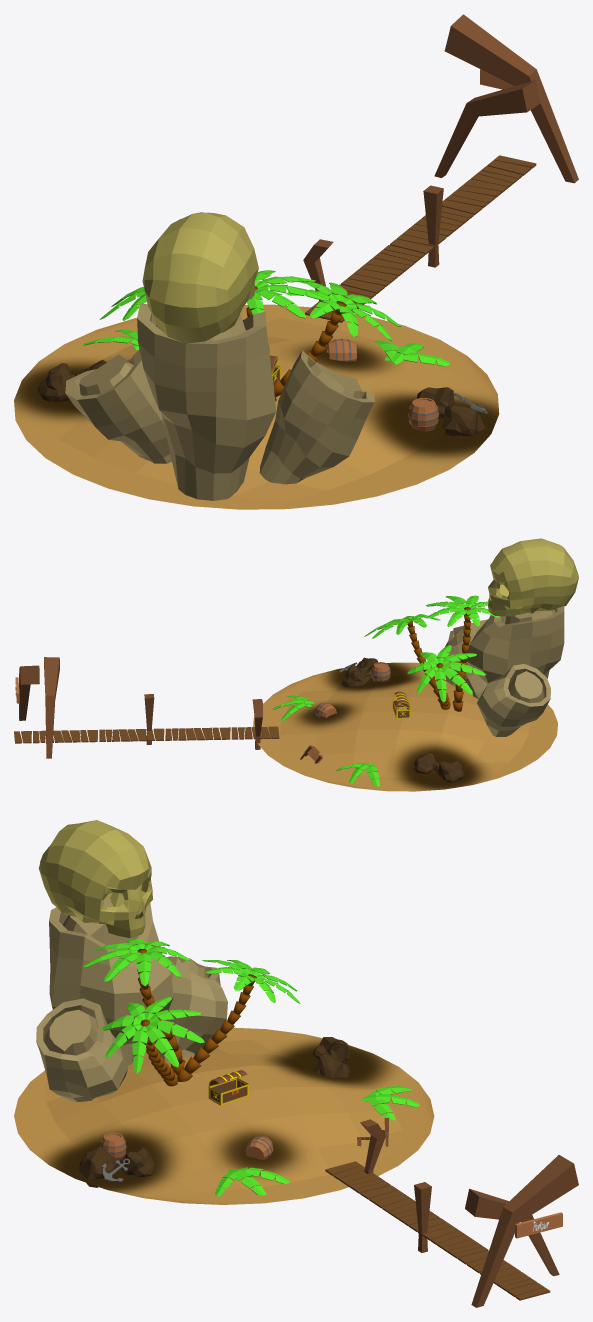
The model's file is parkour.glb.
The picture shows the model from 3 angles, top to bottom: view 1: azimuth 30°, elevation 25°; view 2: azimuth 150°, elevation 25°; view 3: azimuth 270°, elevation 25°; orthographic projection. The views are drawn at different scales.
Visible parts, largest first — view 1: Circle.001, RockaGrande.002, Calabera.001, RockaMediana.004, RockaMediana.005, Puente.001, Palo.006, Palo.007, Plane.010, Plane.009, Rock1.001, Palo.004 (+4 smaller); view 2: Circle.001, Calabera.001, RockaGrande.002, RockaMediana.005, Puente.001, Plane.011, Palo.007, Plane.009, RockaMediana.004, Rock2.001, Palo.006, Rock1.001 (+6 smaller); view 3: Circle.001, Calabera.001, RockaGrande.002, RockaMediana.004, Puente.001, Palo.006, RockaMediana.005, Plane.010, Plane.009, Rock1.001, Palo.007, Plane.011 (+8 smaller).
Part boxes in pixels (<box>): Circle.001: <box>14,304,499,509</box>; RockaGrande.002: <box>137,303,276,500</box>; Calabera.001: <box>142,212,258,343</box>; RockaMediana.004: <box>259,350,374,484</box>; RockaMediana.005: <box>65,349,171,463</box>; Puente.001: <box>305,155,536,322</box>; Palo.006: <box>444,14,578,183</box>; Palo.007: <box>434,80,540,177</box>; Plane.010: <box>285,280,392,340</box>; Plane.009: <box>247,270,328,318</box>; Rock1.001: <box>416,387,485,436</box>; Palo.004: <box>423,185,443,267</box>; Circle.001: <box>253,662,557,791</box>; Calabera.001: <box>488,538,578,616</box>; RockaGrande.002: <box>467,606,564,716</box>; RockaMediana.005: <box>477,664,550,736</box>; Puente.001: <box>14,726,279,743</box>; Plane.011: <box>407,645,486,702</box>; Palo.007: <box>44,657,59,758</box>; Plane.009: <box>426,595,499,626</box>; RockaMediana.004: <box>443,619,487,699</box>; Rock2.001: <box>413,753,463,782</box>; Palo.006: <box>19,665,39,720</box>; Rock1.001: <box>342,657,377,687</box>; Circle.001: <box>14,1027,434,1204</box>; Calabera.001: <box>38,820,152,938</box>; RockaGrande.002: <box>49,899,173,1065</box>; RockaMediana.004: <box>36,998,127,1101</box>; Puente.001: <box>325,1161,550,1300</box>; Palo.006: <box>471,1155,578,1307</box>; RockaMediana.005: <box>155,956,227,1061</box>; Plane.010: <box>102,997,204,1067</box>; Plane.009: <box>83,938,190,986</box>; Rock1.001: <box>79,1147,156,1187</box>; Palo.007: <box>465,1188,559,1276</box>; Plane.011: <box>202,960,300,1003</box>.
Bounding box in the file's own units: 37.58 × 16 × 31.33.
19 materials, 1 textured.
